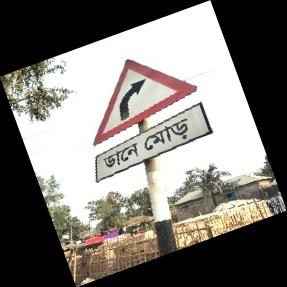Right-turn: (92, 54, 209, 173)
